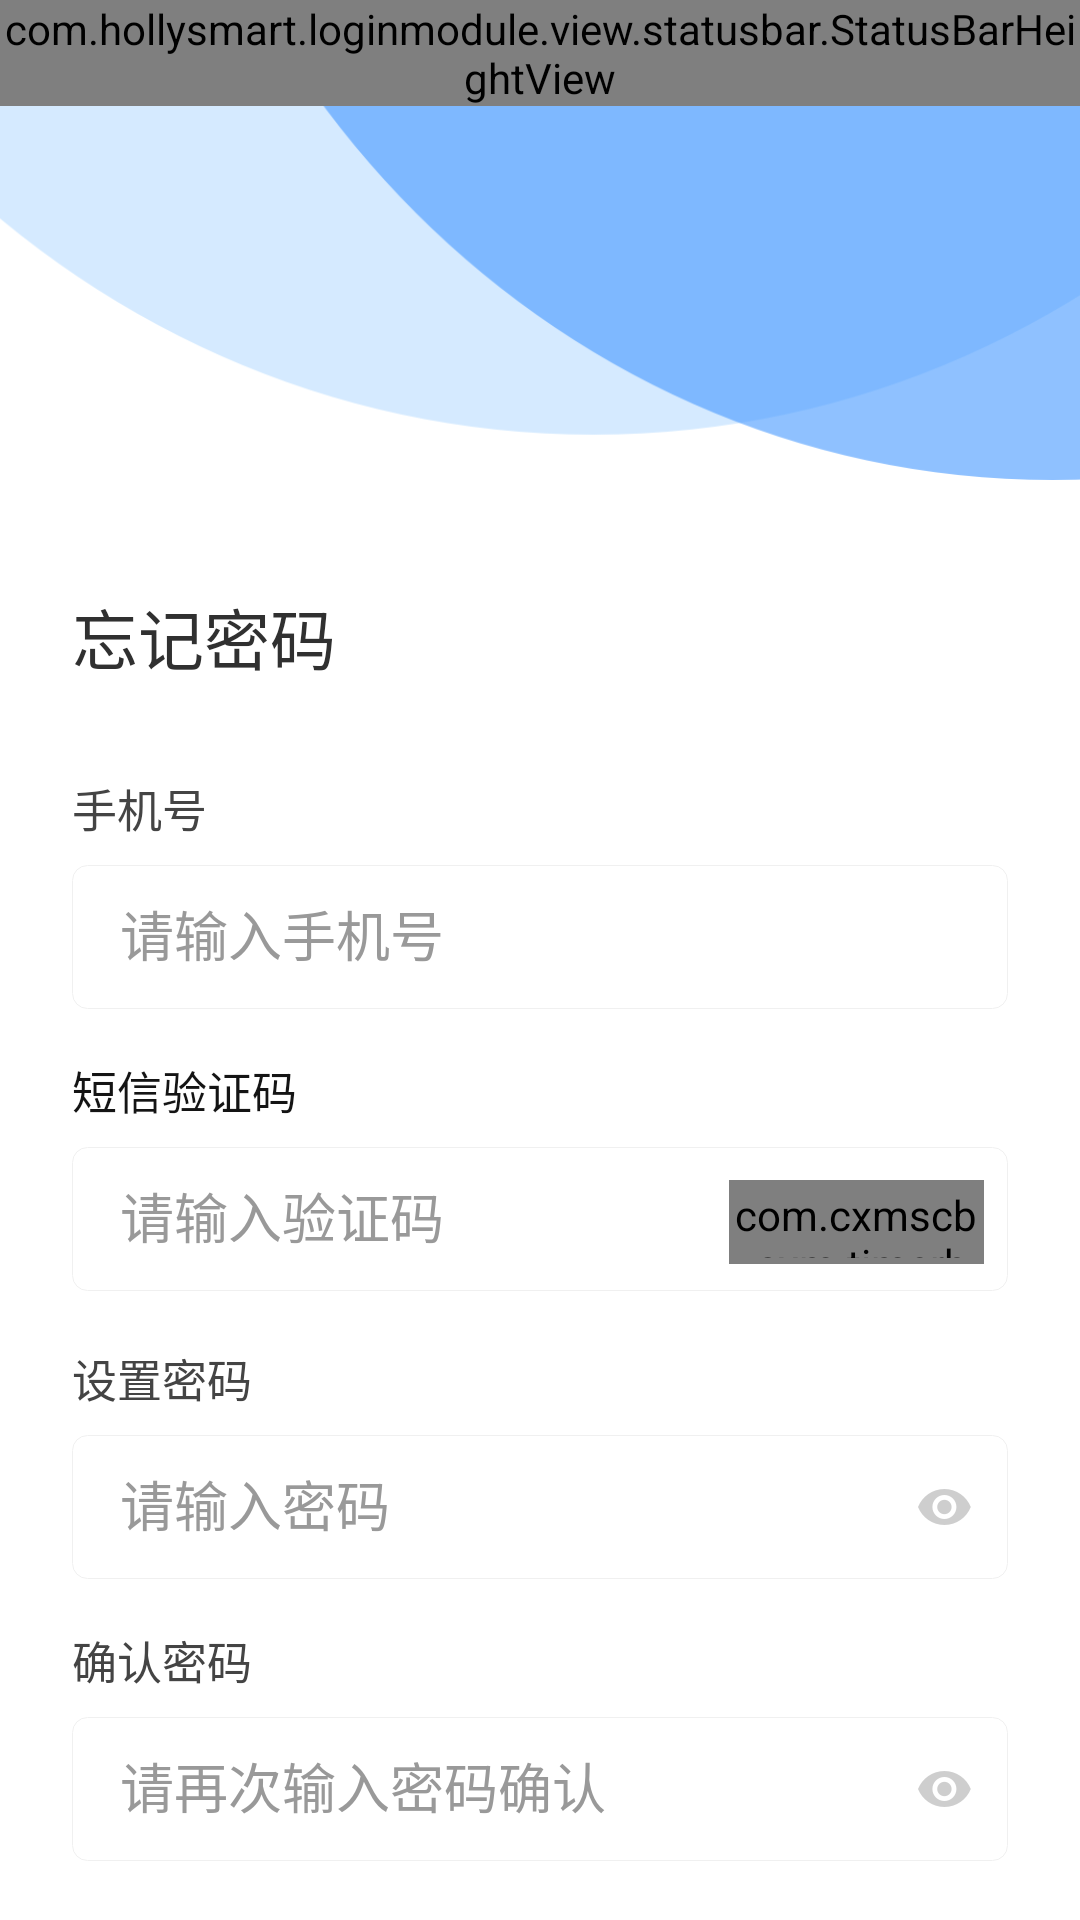

Where icons sit on this 1080*1920 app screen, as [left=x1, top=y1, right=x2, bottom=y2]:
login module password hide: [left=918, top=1489, right=971, bottom=1525], [left=918, top=1771, right=971, bottom=1807]
